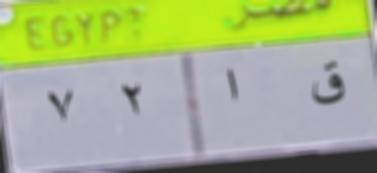2: (110, 78, 156, 123)
7: (36, 85, 84, 137)
alif: (215, 64, 252, 109)
qaaf: (303, 58, 352, 114)
